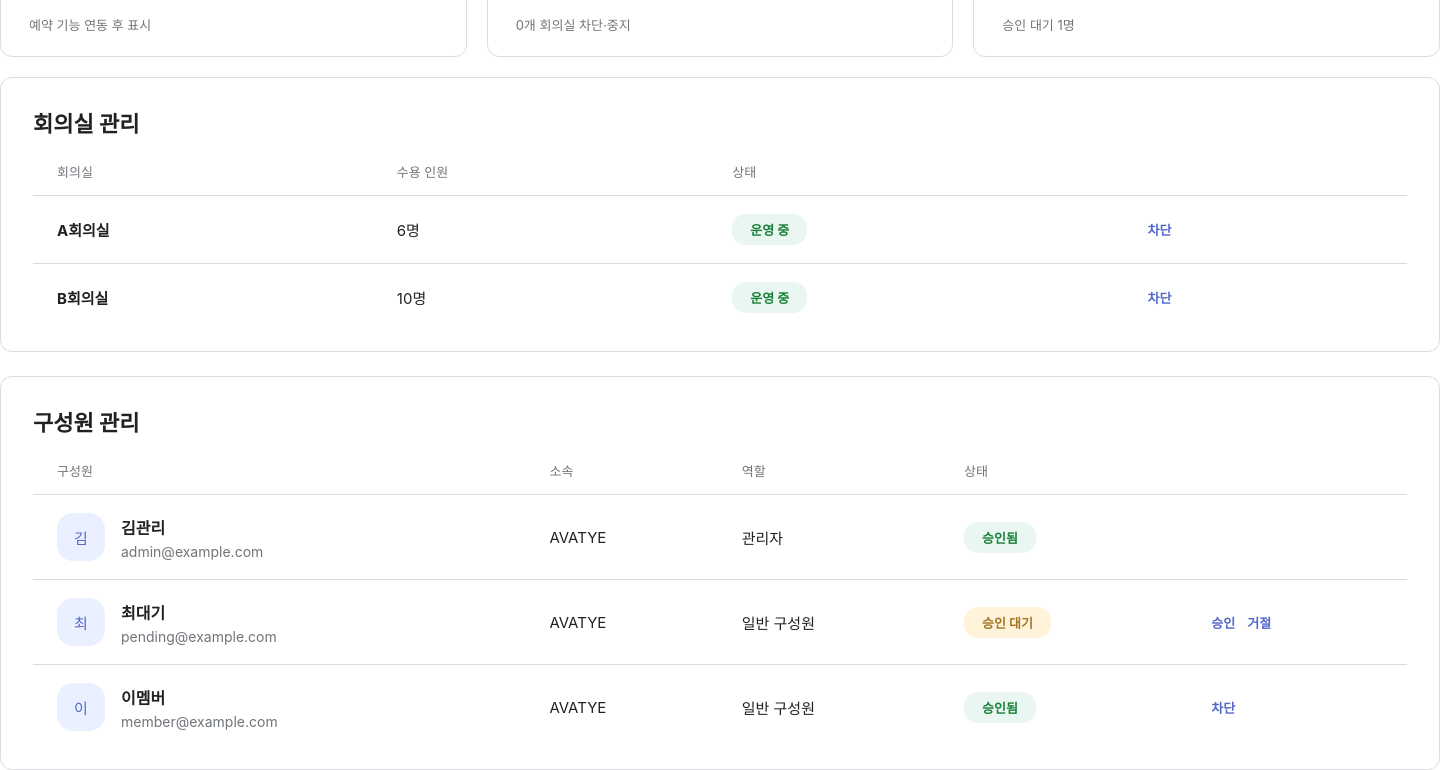
Test case: AdminPage › 회원을 차단하면 차단됨으로 바뀌고 버튼이 사라진다
(page scrolled)
Expected: the text "이멤버" is shown, [121,688,165,708]
Click the button "차단" in the row of "이멤버": x=1223, y=707 [1211,698,1235,716]
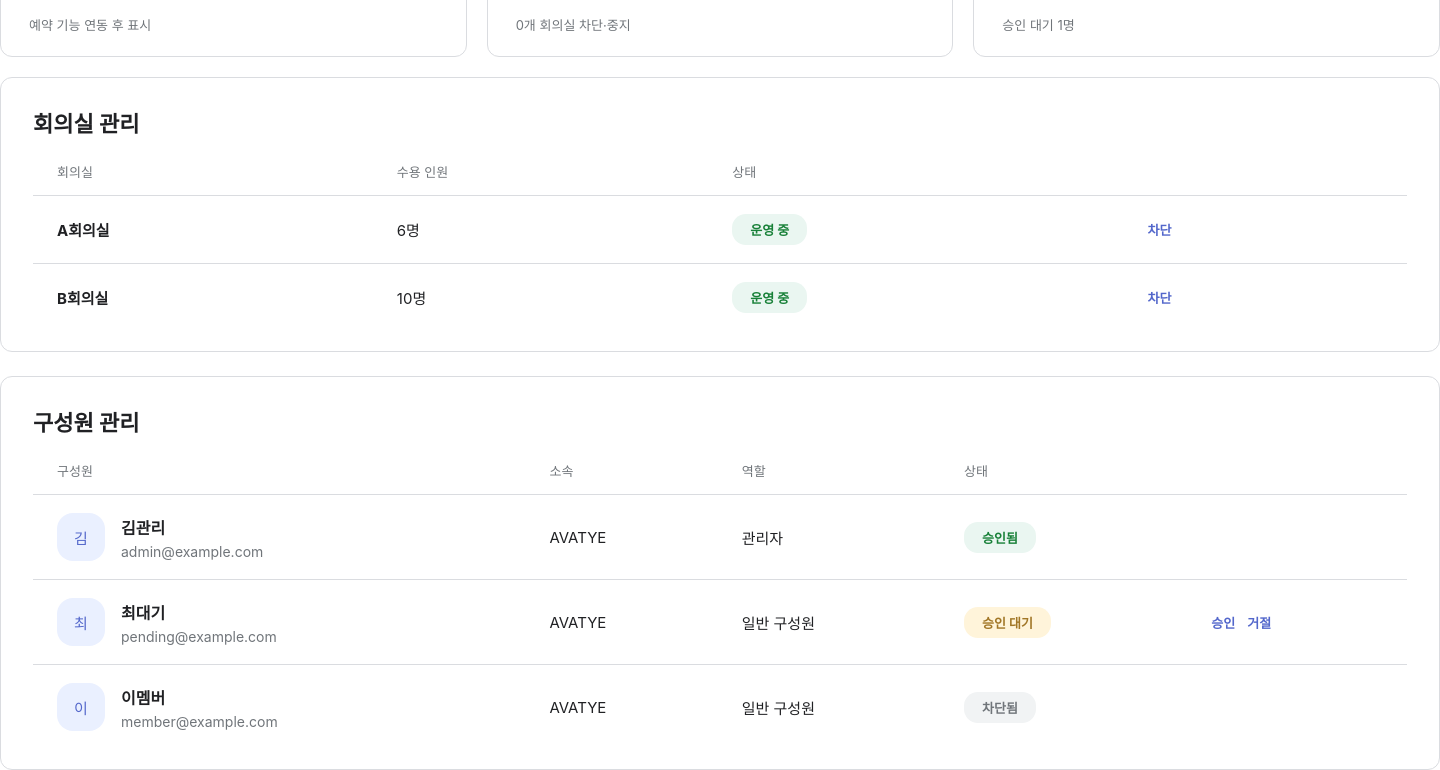
Now the text "차단됨" is shown, box [964,692,1036,722]
